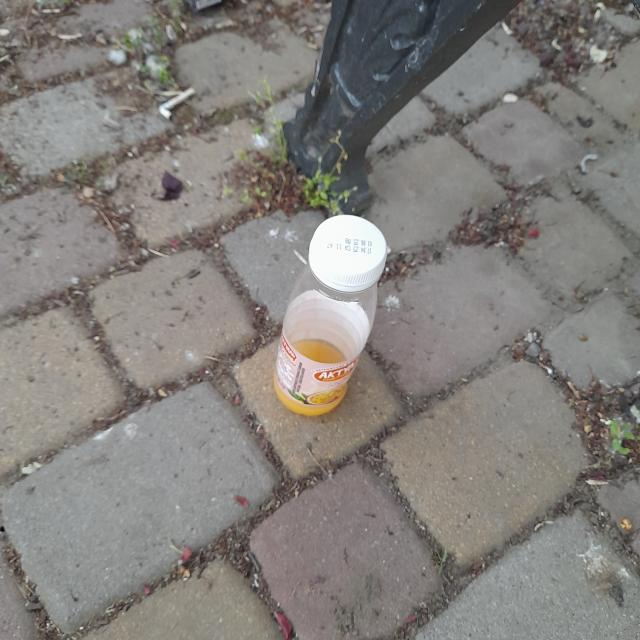low: (274, 215, 387, 415)
